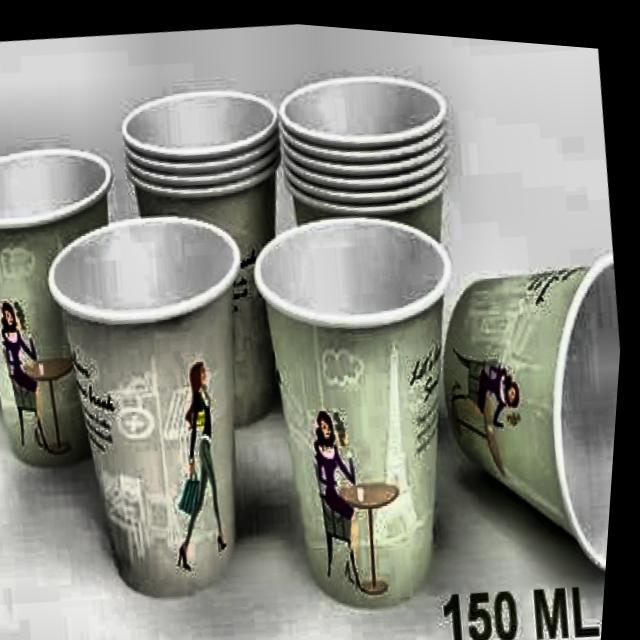Cup: (229, 183, 493, 623), (28, 187, 287, 615), (261, 49, 496, 447), (102, 65, 325, 441), (426, 221, 630, 592), (0, 130, 153, 485)
